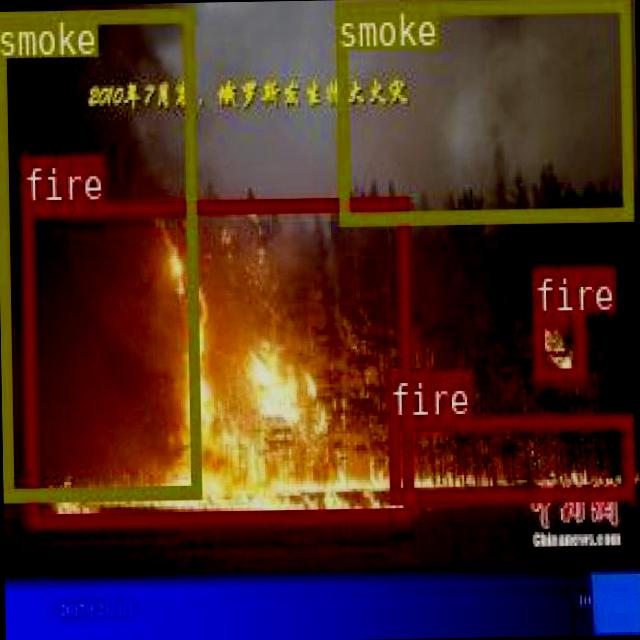fire: (19, 195, 412, 524), (387, 413, 630, 499), (532, 311, 583, 380)
smoke: (0, 6, 200, 498), (333, 0, 631, 224)
